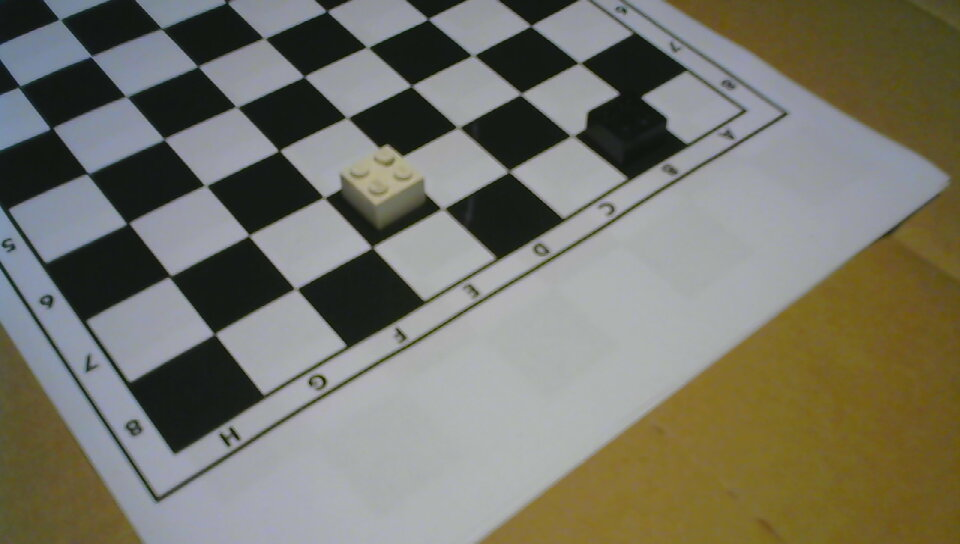bp: (587, 91, 667, 167)
wp: (338, 143, 427, 230)
